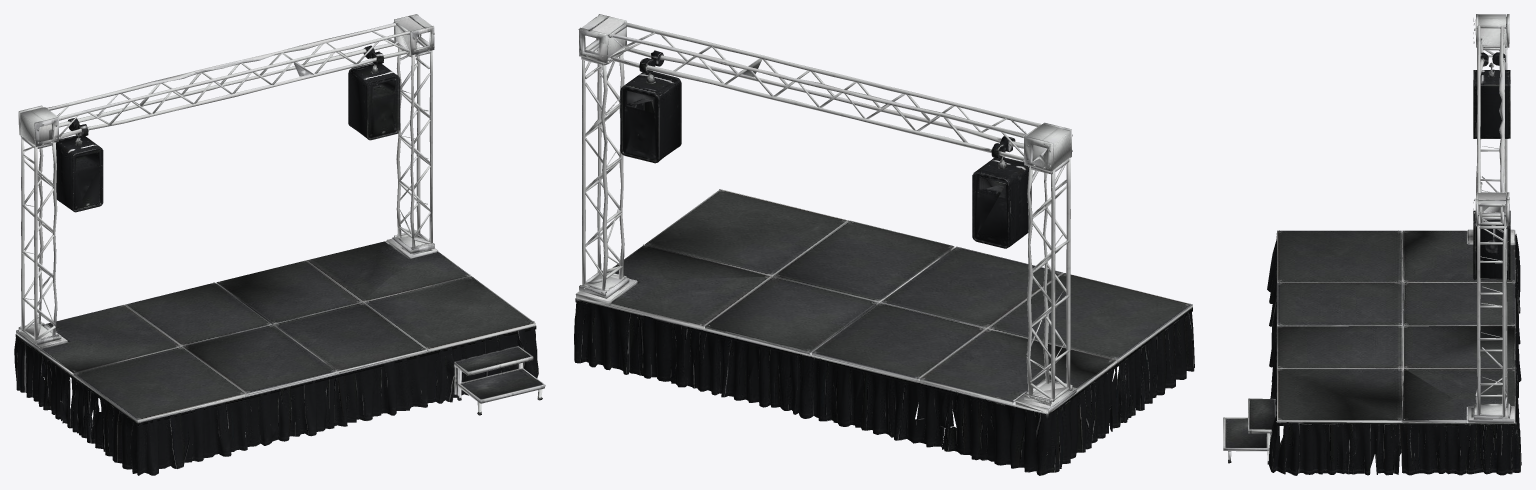
The model's file is skyways-con-stage.glb.
3 renders of one model, left to right at view 1: azimuth 30°, elevation 25°; view 2: azimuth 150°, elevation 25°; view 3: azimuth 270°, elevation 25°, orthographic. The views are drawn at different scales.
Parts seen in each view (by area): view 1: skyways-con-stage; view 2: skyways-con-stage; view 3: skyways-con-stage.
Boxes of the visible parts, x1,y1,x2,y2 form: skyways-con-stage: (14,14,545,475); skyways-con-stage: (574,14,1194,475); skyways-con-stage: (1223,14,1521,475).
Bounding box in the file's own units: 8 × 5.18 × 5.17.
Materials: 1 (1 with a texture image).
